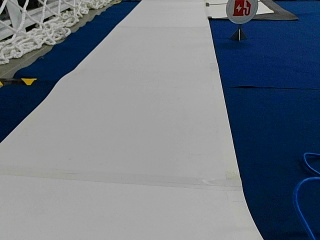battery: (225, 0, 259, 23)
